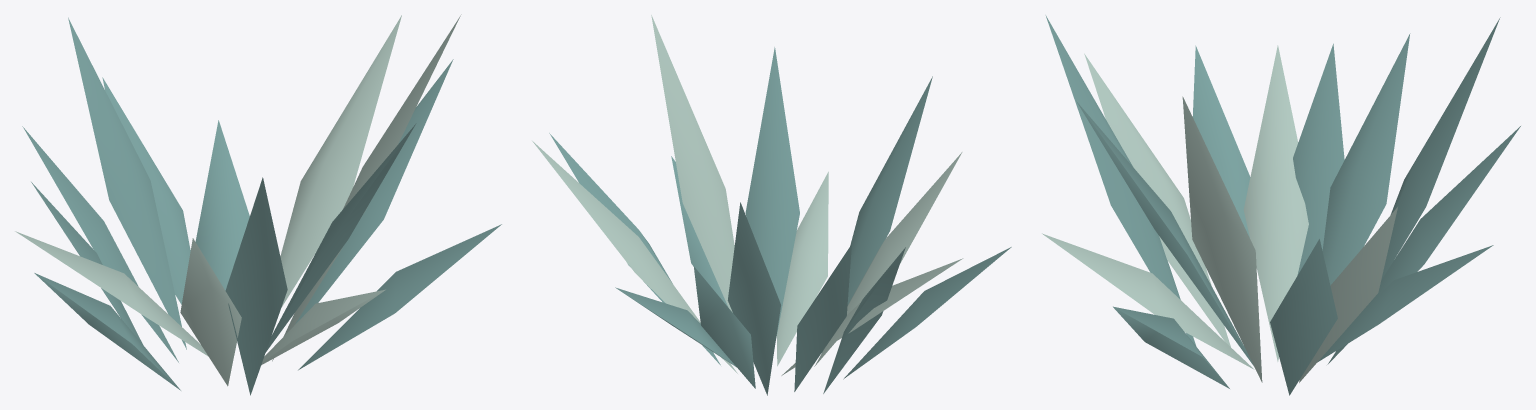
The model's file is plant-grass-snowy.glb.
3 views of the same model, side by side, from view 1: azimuth 30°, elevation 25°; view 2: azimuth 150°, elevation 25°; view 3: azimuth 270°, elevation 25° (orthographic). The views are drawn at different scales.
Visible parts, largest first — view 1: plant-grass-kit-snowy-green, plant-grass-kit-snowy-leaf; view 2: plant-grass-kit-snowy-green, plant-grass-kit-snowy-leaf; view 3: plant-grass-kit-snowy-green, plant-grass-kit-snowy-leaf.
Part boxes in pixels (x1,y1,x2,y2): plant-grass-kit-snowy-green: [22, 17, 501, 395]; plant-grass-kit-snowy-leaf: [15, 14, 461, 386]; plant-grass-kit-snowy-green: [549, 47, 1011, 395]; plant-grass-kit-snowy-leaf: [532, 15, 963, 375]; plant-grass-kit-snowy-green: [1045, 15, 1520, 395]; plant-grass-kit-snowy-leaf: [1042, 45, 1397, 382].
Bounding box in the file's own units: 1.23 × 0.8332 × 0.9818.
